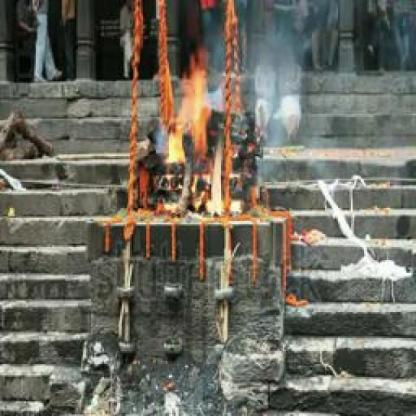fire: (164, 42, 232, 216)
